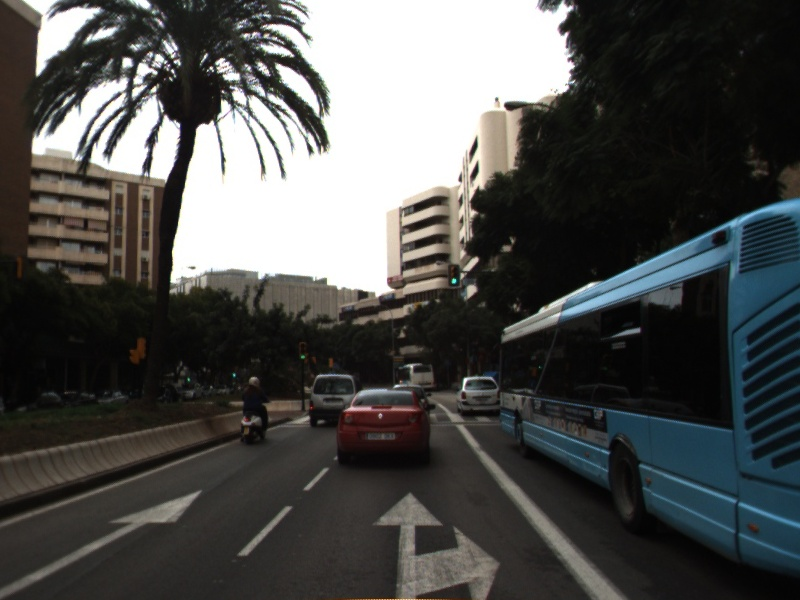STRAIGHT: (1, 487, 208, 597)
STRAIGHT_RIGHT: (366, 487, 506, 600)
